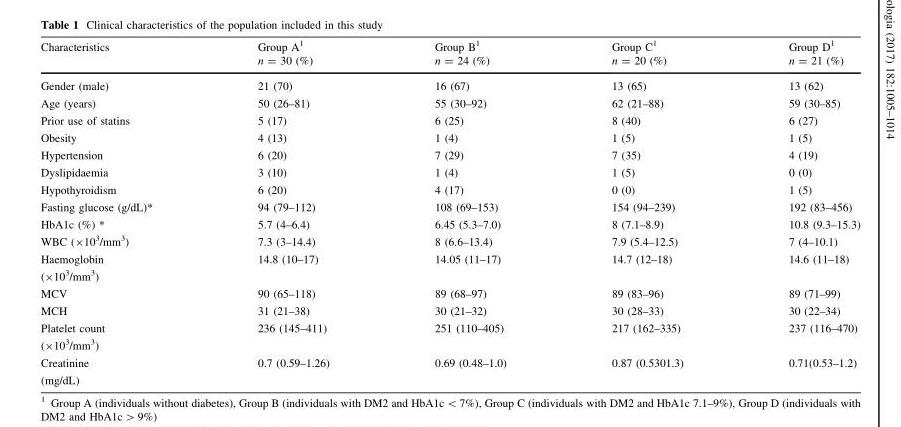table: (40, 39, 860, 385)
table column: (205, 39, 382, 385), (382, 39, 559, 385), (559, 39, 736, 385), (40, 39, 205, 385), (736, 39, 860, 385)
table column header: (40, 39, 860, 73)
table row: (40, 250, 860, 285), (40, 319, 860, 354), (40, 39, 860, 73), (40, 354, 860, 385), (40, 73, 860, 94), (40, 94, 860, 112), (40, 163, 860, 181), (40, 232, 860, 250), (40, 112, 860, 129), (40, 129, 860, 146), (40, 146, 860, 163), (40, 181, 860, 198), (40, 198, 860, 215), (40, 215, 860, 232), (40, 285, 860, 302), (40, 302, 860, 319)
